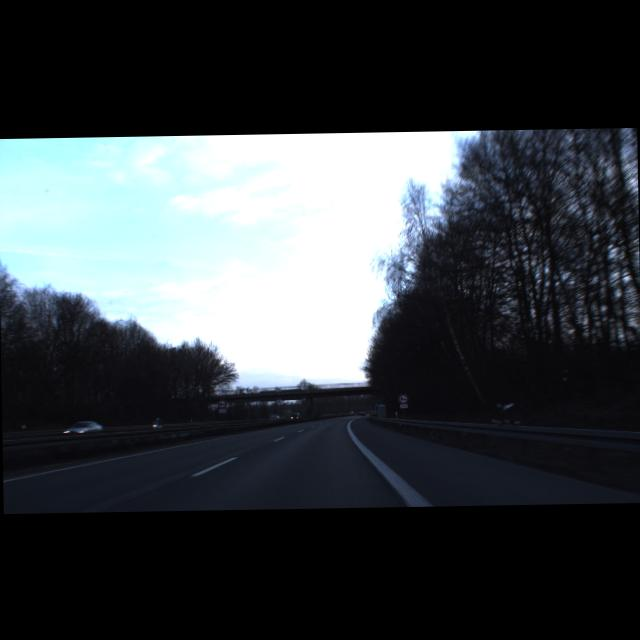prohibitory: (397, 392, 408, 403), (217, 398, 226, 408)
